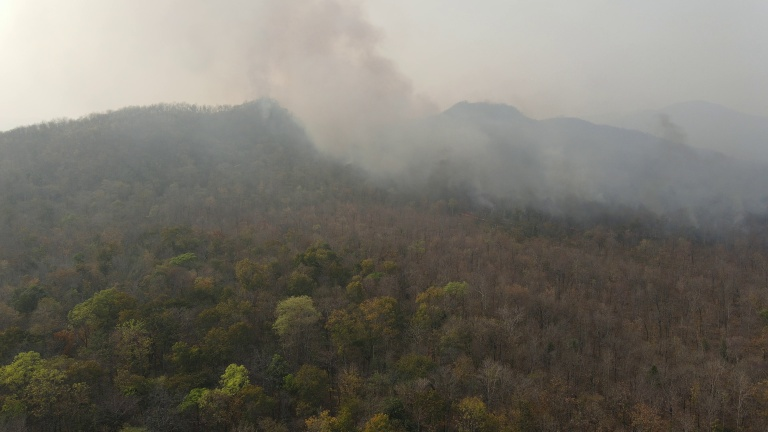smoke: (145, 3, 628, 218), (638, 114, 768, 209), (252, 57, 277, 135)
